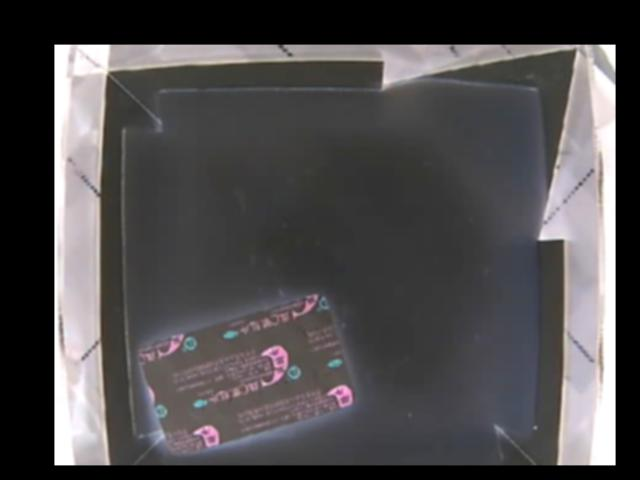Medicine: (135, 294, 357, 450)
